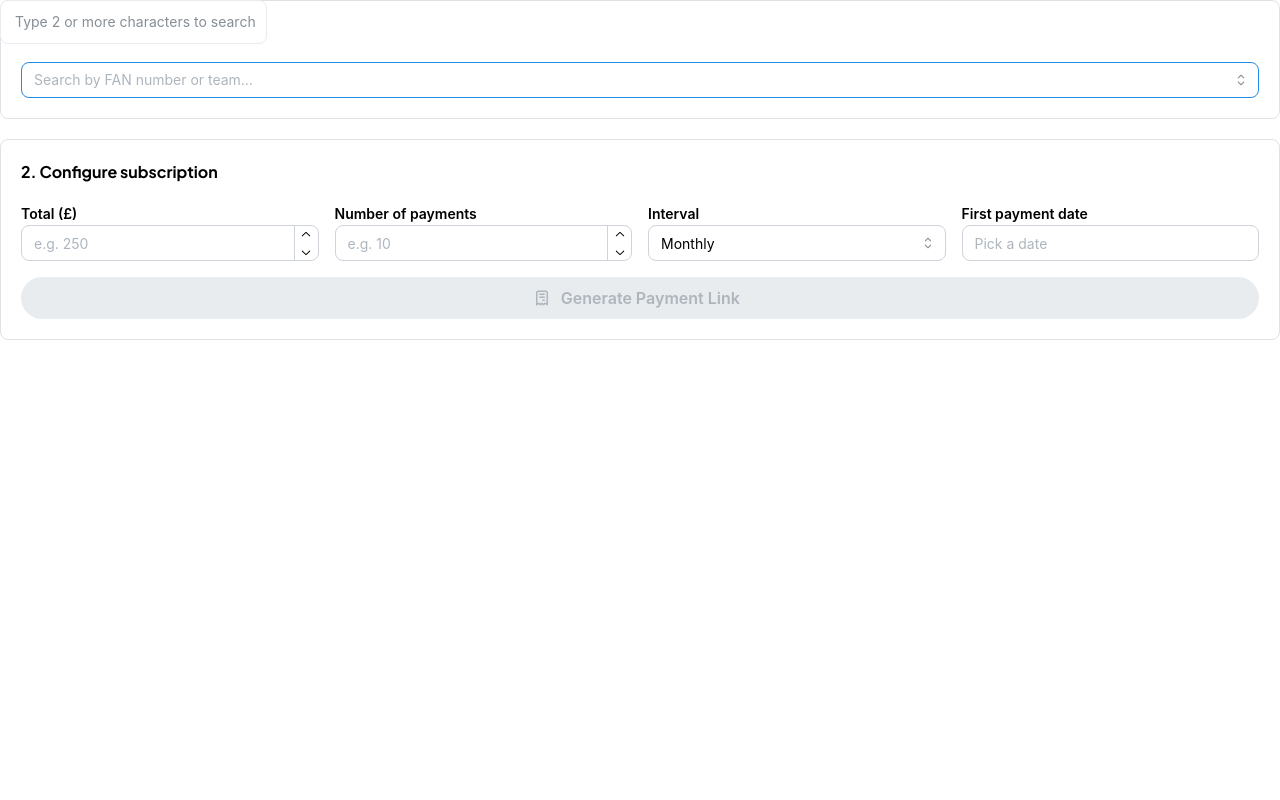
PlayerSubscriptionsTab › shows auto-fill alert with level name when a registration with a subscription level is selected
This screenshot has width=1280, height=800.
Type "12345" into the dropdown with placeholder "Search by FAN number or team…" at [640, 80], box top-left (21, 62), bottom-right (1259, 98)
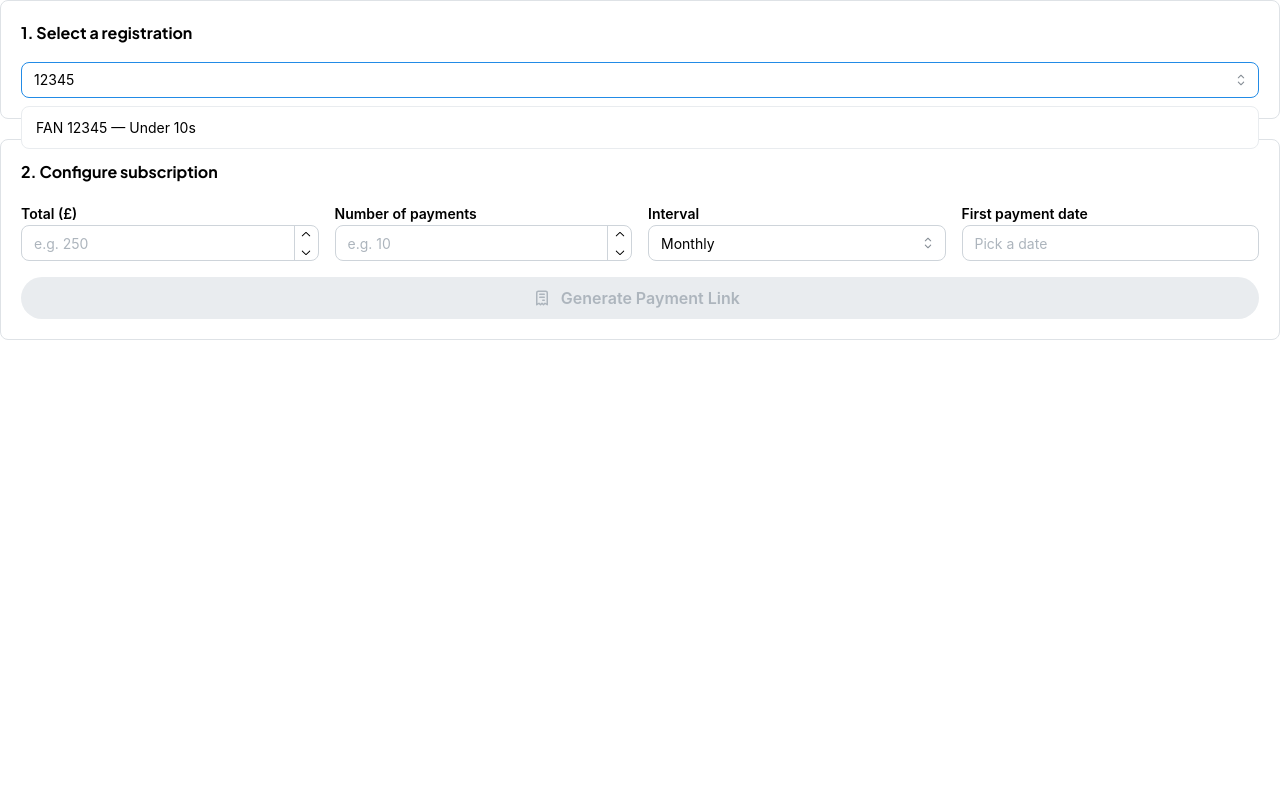
Expected: the text "FAN 12345 — Under 10s" is shown
Click the option "FAN 12345 — Under 10s" at [116, 127], box top-left (36, 119), bottom-right (196, 136)
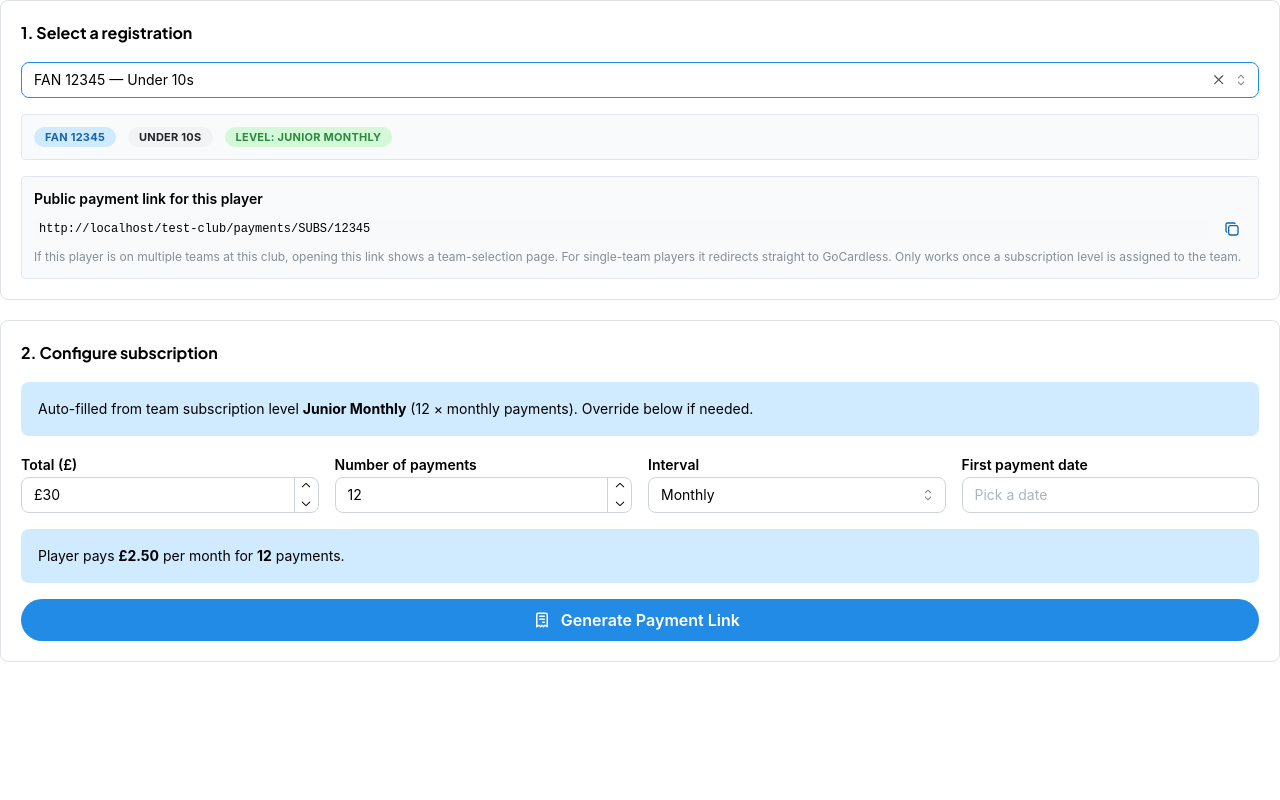
Expected: the text "Auto-filled from team subscription level" is shown, top-left (38, 400), bottom-right (303, 417)
